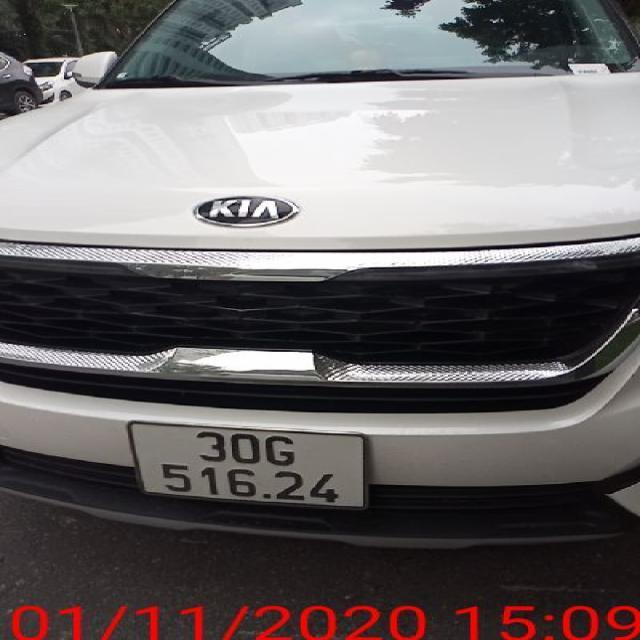bien_so_oto: (126, 419, 372, 511)
